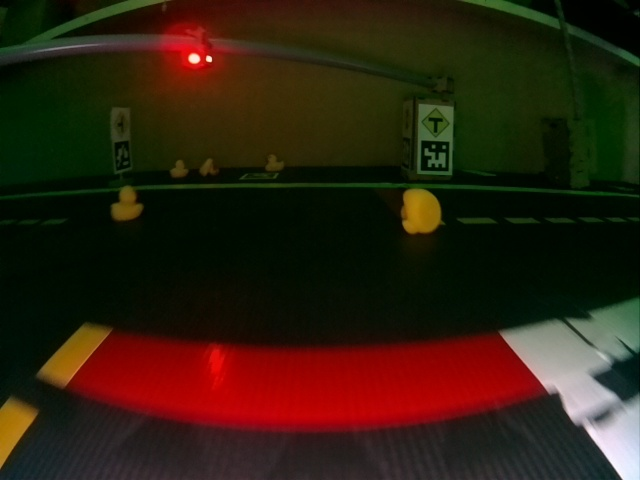Duckie: (401, 188, 440, 234), (113, 187, 142, 221), (200, 159, 219, 176), (170, 160, 189, 177), (265, 155, 284, 171)
Intersection sign: (421, 106, 450, 138), (113, 111, 130, 138)
QR code: (420, 140, 450, 172)
Traffic light: (186, 27, 211, 69)
